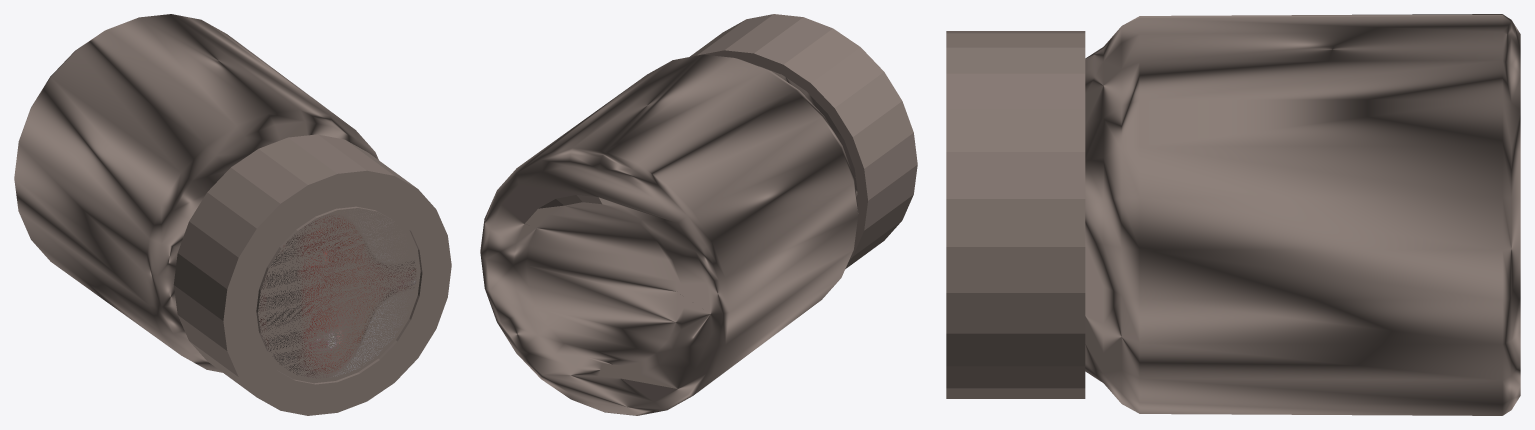
File: model_align.obj
The picture shows the model from 3 angles, left to right: view 1: azimuth 30°, elevation 25°; view 2: azimuth 150°, elevation 25°; view 3: azimuth 270°, elevation 25°; orthographic projection. The views are drawn at different scales.
Bounding box in the file's own units: 0.1325 × 0.1325 × 0.1885.
